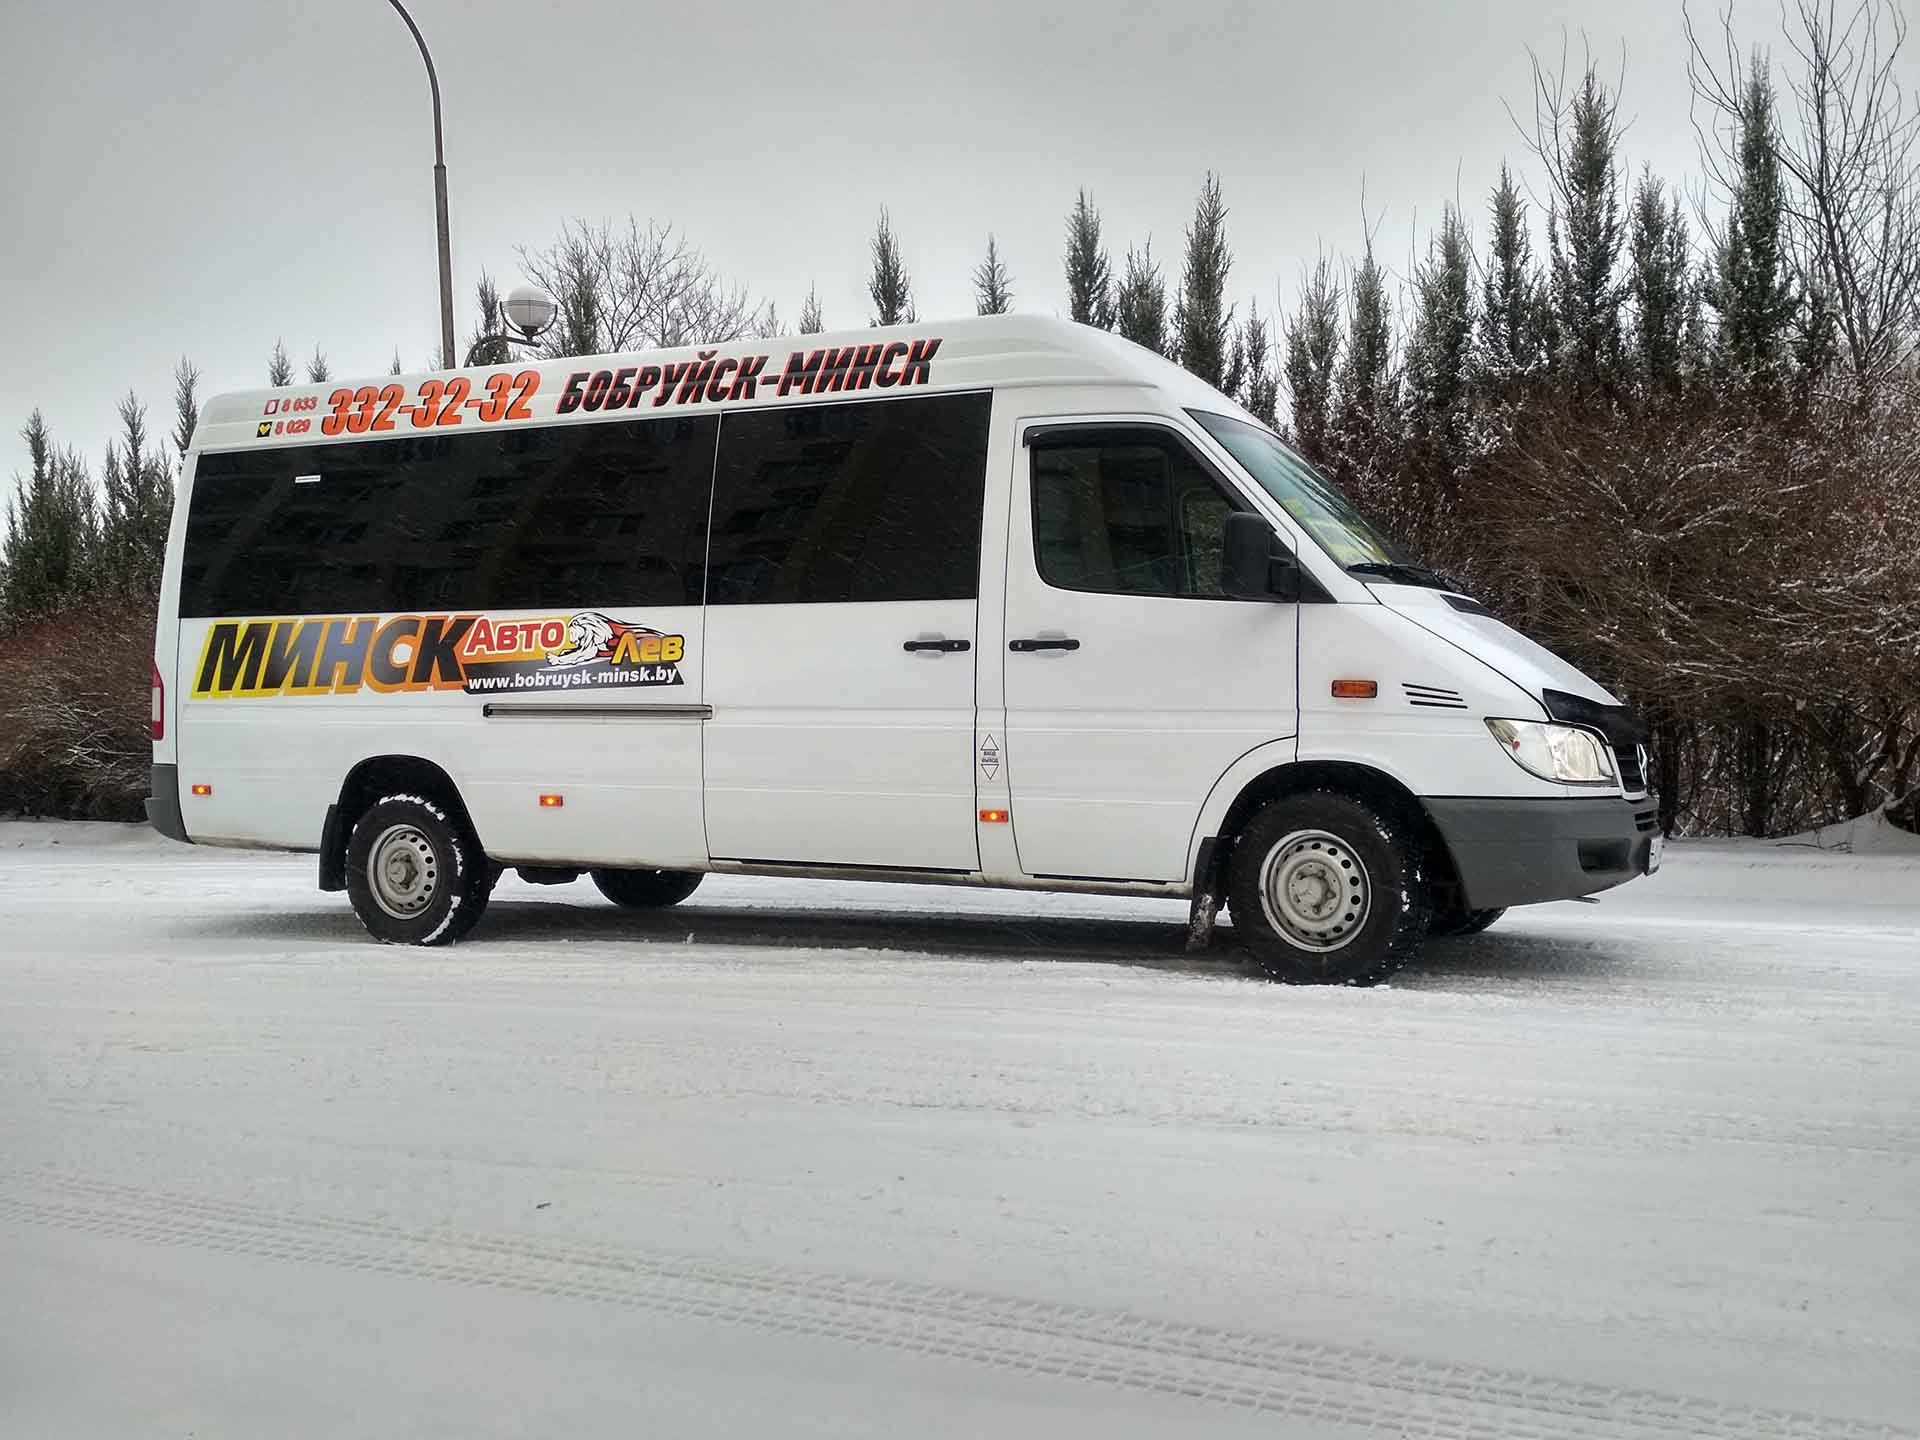van: (145, 312, 1671, 992)
